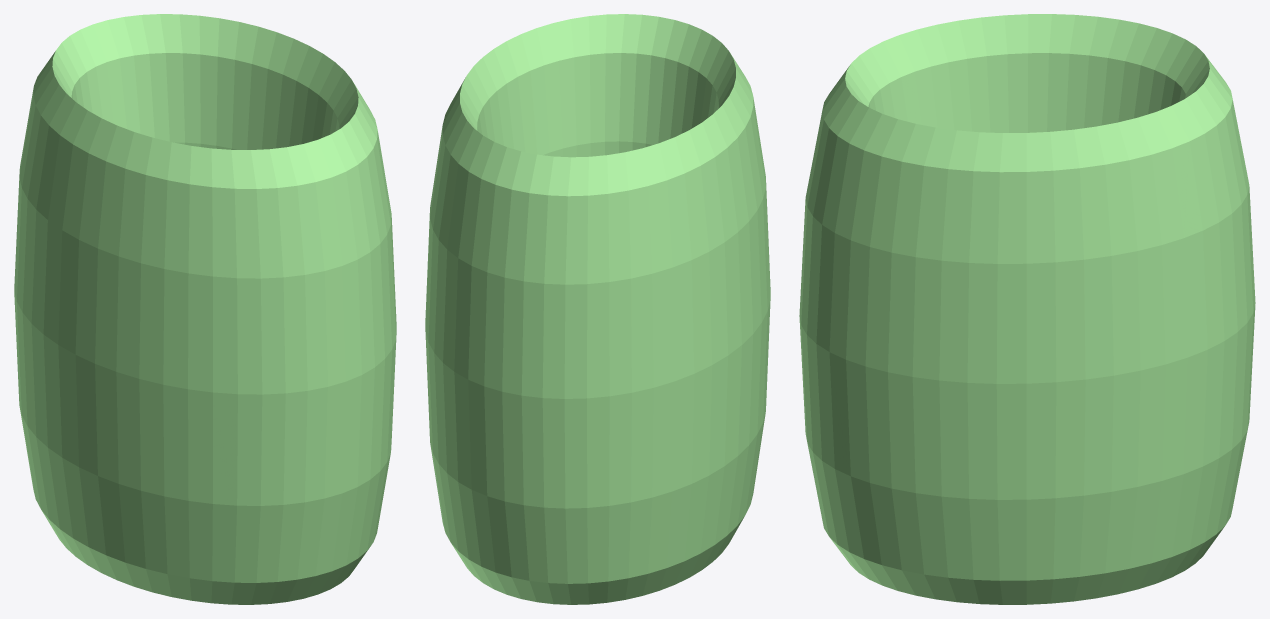
File: 3thirdIsland-radioTower3.obj
3 renders of one model, left to right at view 1: azimuth 30°, elevation 25°; view 2: azimuth 150°, elevation 25°; view 3: azimuth 270°, elevation 25°, orthographic. The views are drawn at different scales.
Parts seen in each view (by area): view 1: Torus; view 2: Torus; view 3: Torus.
Boxes of the visible parts, <box> form: Torus: <box>14,14,396,604</box>; Torus: <box>425,14,770,604</box>; Torus: <box>799,14,1255,604</box>.
Size of the model in its own units: 3.31 by 4.89 by 4.28.
